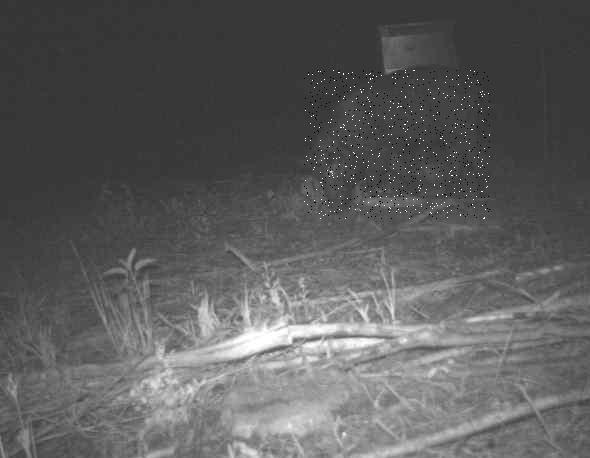Hog: (304, 71, 490, 220)
